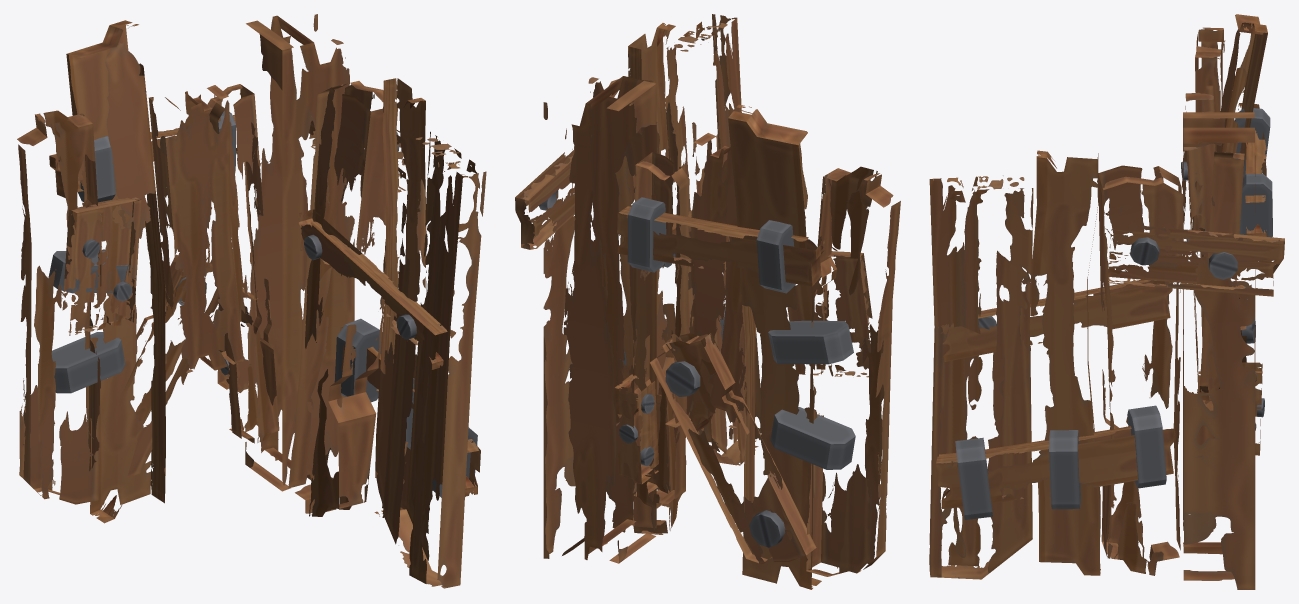
File: hvs_plank_corner.fbx
The picture shows the model from 3 angles, left to right: view 1: azimuth 30°, elevation 25°; view 2: azimuth 150°, elevation 25°; view 3: azimuth 270°, elevation 25°; orthographic projection. The views are drawn at different scales.
Parts seen in each view (by area): view 1: hvs_plank_04; view 2: hvs_plank_04; view 3: hvs_plank_04.
Boxes of the visible parts, x1,y1,x2,y2 form: hvs_plank_04: (17,14,486,588); hvs_plank_04: (515,14,900,589); hvs_plank_04: (929,14,1284,589).
Bounding box in the file's own units: 4.9 × 6.69 × 4.54.
